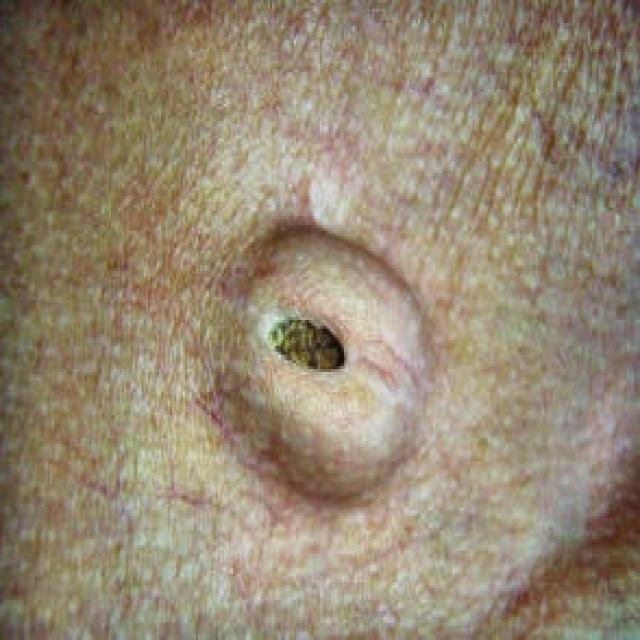Seborrheic-Keratoses-and-other-Benign-Tumors: (88, 99, 479, 528)
